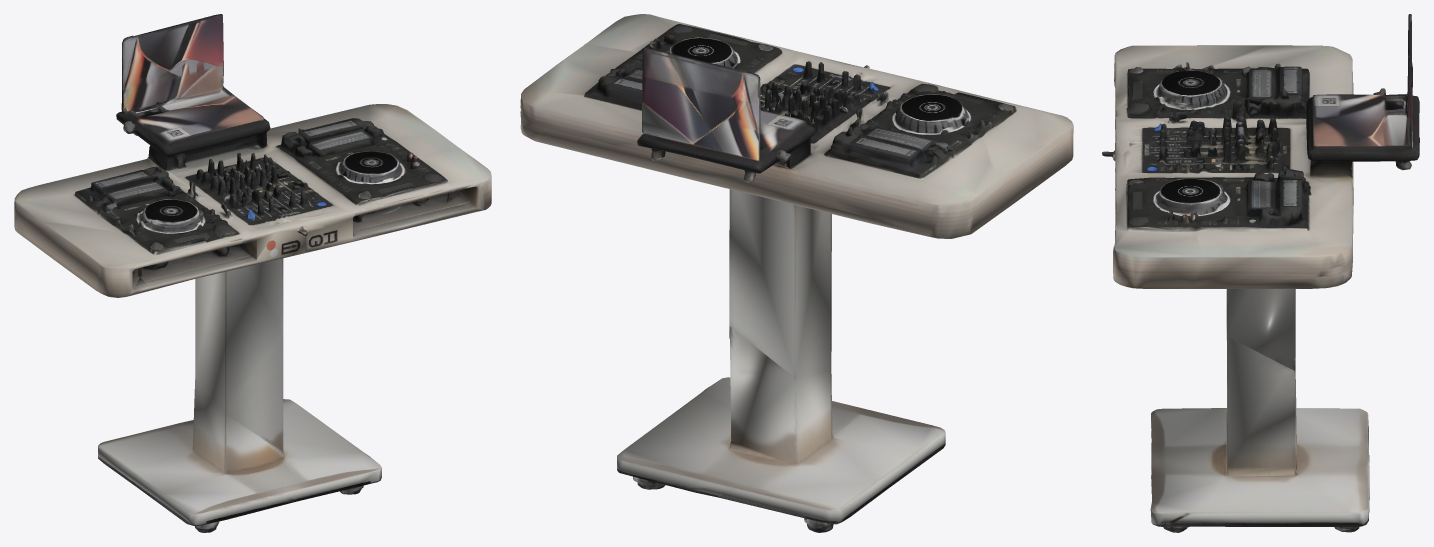
File: mesadj.glb
The picture shows the model from 3 angles, left to right: view 1: azimuth 30°, elevation 25°; view 2: azimuth 150°, elevation 25°; view 3: azimuth 270°, elevation 25°; orthographic projection. The views are drawn at different scales.
Bounding box in the file's own units: 2 × 2 × 1.27.
1 material, 1 textured.
